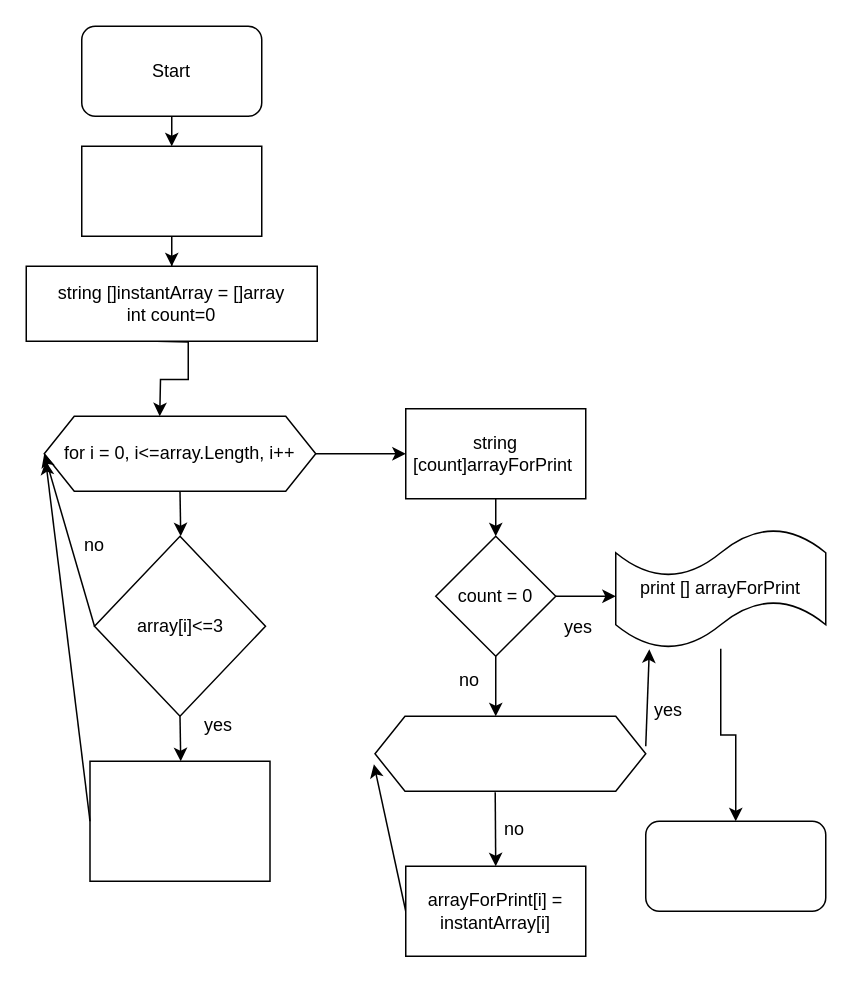
This 852x983 diagram has some shape labels left out. The centre of each missing label's shape, as x and y in pixels:
"end" goes at (x=735, y=865).
"for i = 0, i<=count, i++" goes at (x=510, y=753).
"instantArray[count]=array[i] c++" goes at (x=179, y=820).
"string []array" goes at (x=171, y=190).
